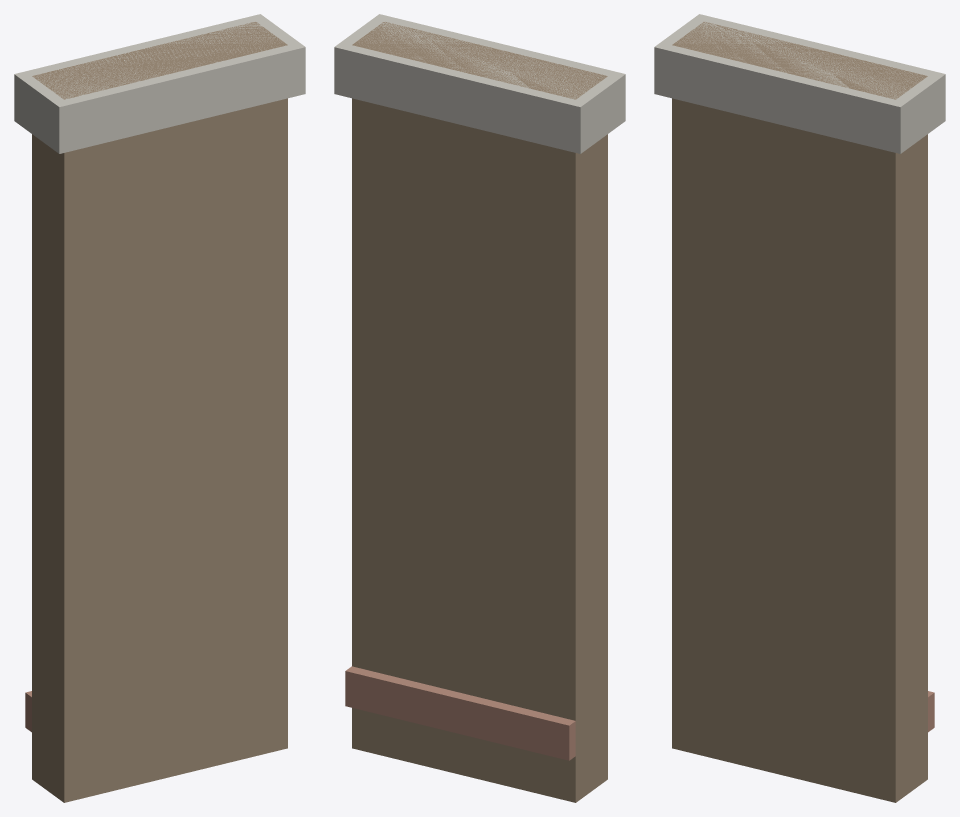
Rendered from iz3_build_defense_reinforce_02.glb.
3 renders of one model, left to right at view 1: azimuth 30°, elevation 25°; view 2: azimuth 150°, elevation 25°; view 3: azimuth 330°, elevation 25°, orthographic.
Visible parts, largest first — view 1: wall, cornice; view 2: wall, cornice, sill; view 3: wall, cornice.
Part boxes in pixels (x1=…): wall: x1=32, y1=22, x2=287, y2=802; cornice: x1=14, y1=14, x2=305, y2=153; wall: x1=352, y1=22, x2=607, y2=802; cornice: x1=334, y1=14, x2=625, y2=153; sill: x1=345, y1=666, x2=575, y2=760; wall: x1=672, y1=22, x2=927, y2=802; cornice: x1=654, y1=14, x2=945, y2=153.
Size of the model in its own units: 0.88 by 2.4 by 0.28.
